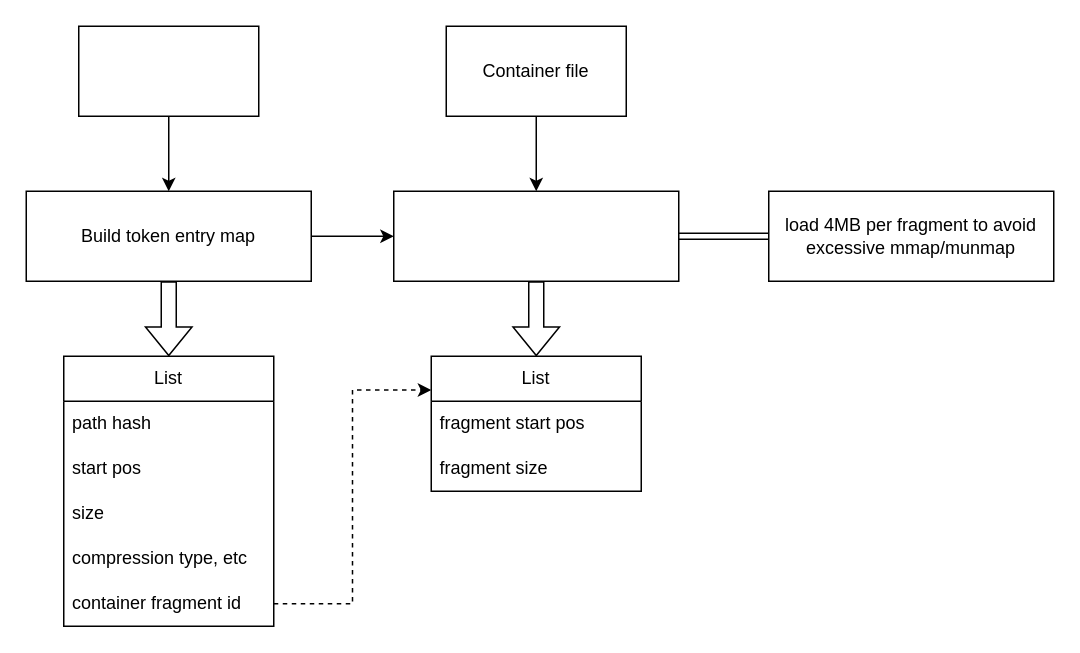
Some shapes in this 1080 by 653 pixel diagram are drawn without their labels. Here are the shapes that lost their labels. From the top down, the centre of each, then its label:
pixel 168 70: Token file
pixel 535 235: Build container fragment map
